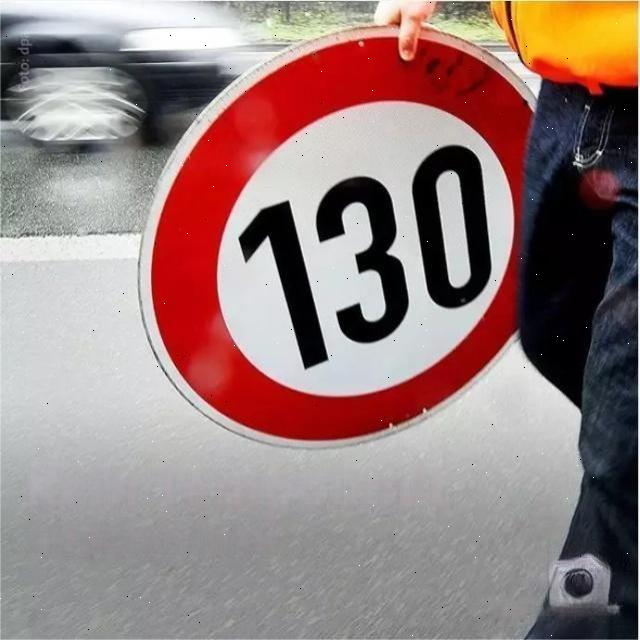speed limit 130: (138, 23, 543, 449)
